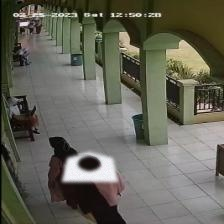Mukena: (62, 152, 118, 181)
